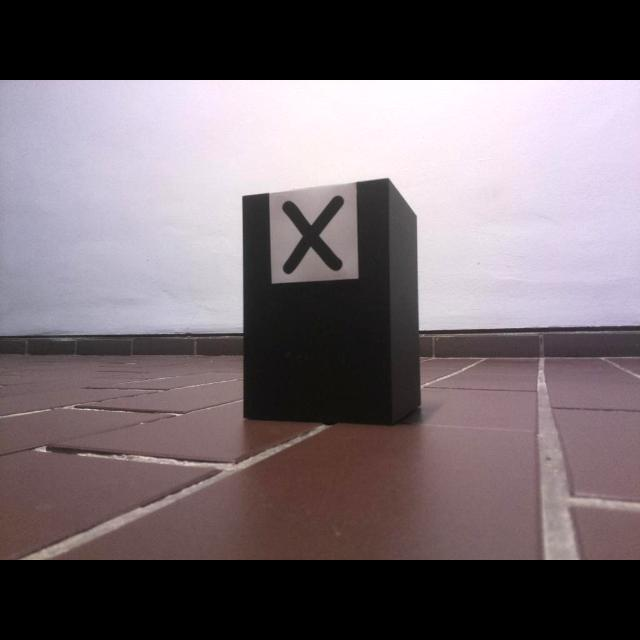X: (282, 194, 345, 275)
